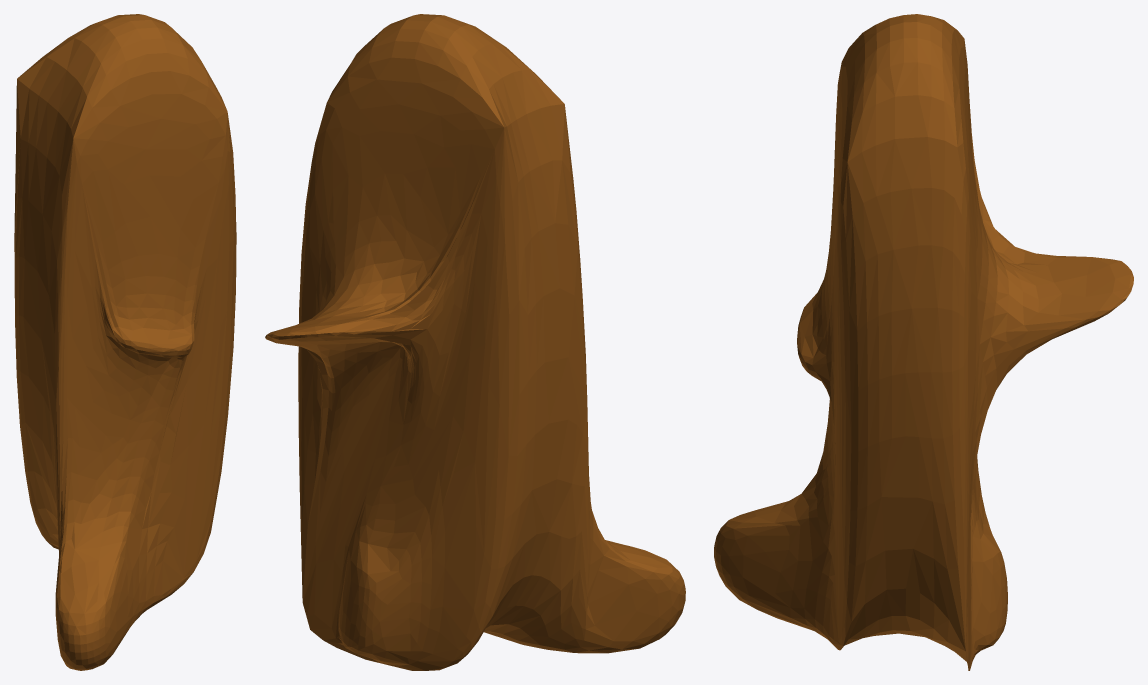
The picture shows the model from 3 angles, left to right: view 1: azimuth 30°, elevation 25°; view 2: azimuth 150°, elevation 25°; view 3: azimuth 270°, elevation 25°; orthographic projection. The views are drawn at different scales.
Visible parts, largest first — view 1: 633_Cube.2547; view 2: 633_Cube.2547; view 3: 633_Cube.2547.
Part boxes in pixels (x1,y1,x2,y2): 633_Cube.2547: [14, 14, 236, 670]; 633_Cube.2547: [265, 14, 685, 670]; 633_Cube.2547: [714, 14, 1133, 670].
Size of the model in its own units: 5.04 by 11.4 by 6.78.
